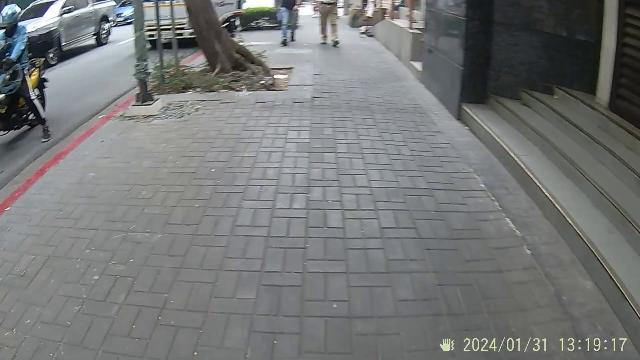motorcycle: (0, 55, 48, 159)
utility_post: (130, 0, 150, 106)
